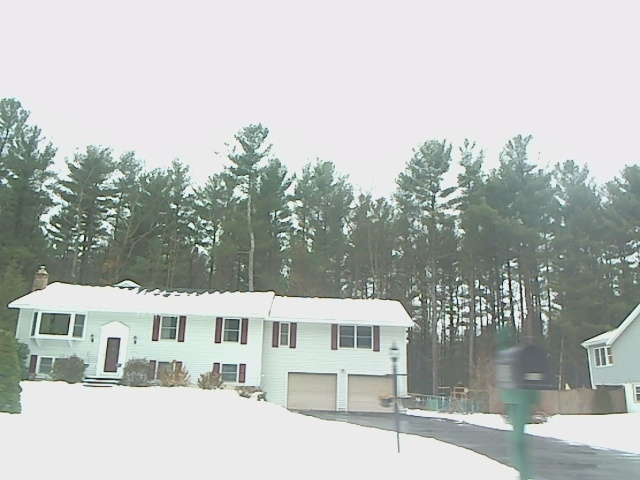Ploughed: (346, 406, 479, 441)
